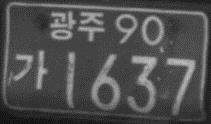0: (141, 14, 164, 47)
1: (66, 51, 77, 114)
3: (125, 54, 158, 114)
6: (90, 51, 122, 112)
7: (164, 56, 196, 116)
9: (114, 11, 139, 44)
가: (12, 48, 48, 91)
광주_O: (49, 8, 106, 42)
